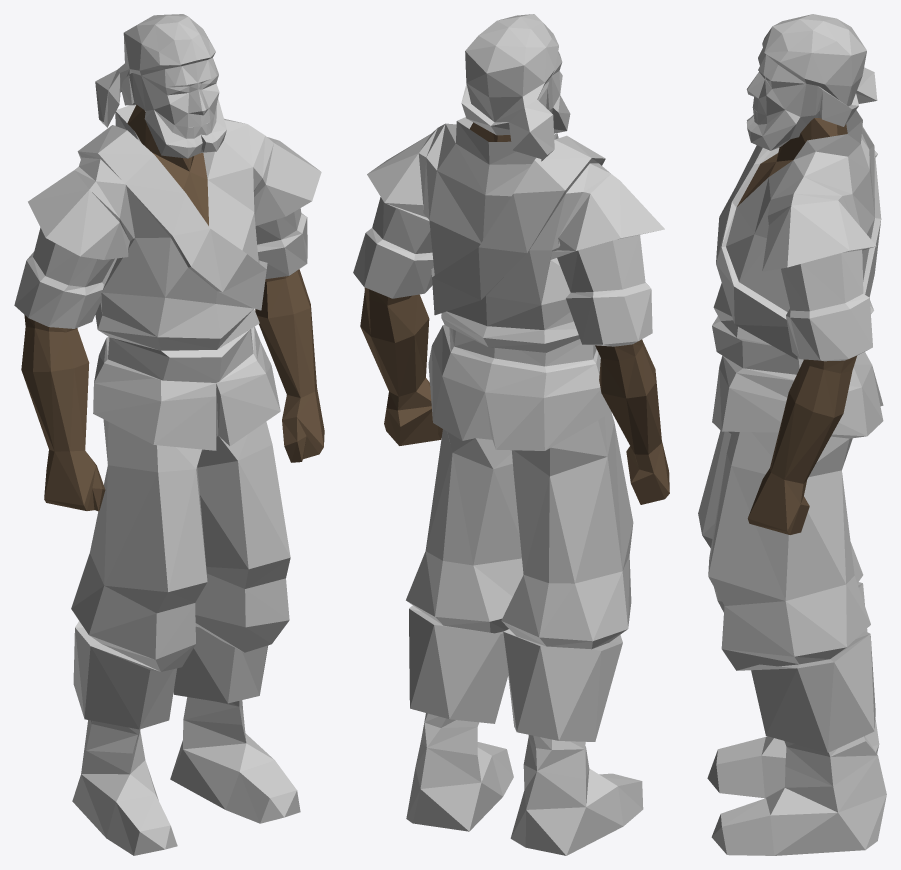
File: ARMOR_PIR_L_ADDON.OBJ
3 views of the same model, side by side, from view 1: azimuth 30°, elevation 25°; view 2: azimuth 150°, elevation 25°; view 3: azimuth 270°, elevation 25° (orthographic).
Parts seen in each view (by area): view 1: ARMOR_PIR_L_ADDON; view 2: ARMOR_PIR_L_ADDON; view 3: ARMOR_PIR_L_ADDON.
Part boxes in pixels (left/top/right/bottom): ARMOR_PIR_L_ADDON: left=14, top=14, right=324, bottom=855; ARMOR_PIR_L_ADDON: left=353, top=14, right=669, bottom=855; ARMOR_PIR_L_ADDON: left=698, top=14, right=886, bottom=855.
Size of the model in its own units: 0.6885 by 1.84 by 0.3968.
